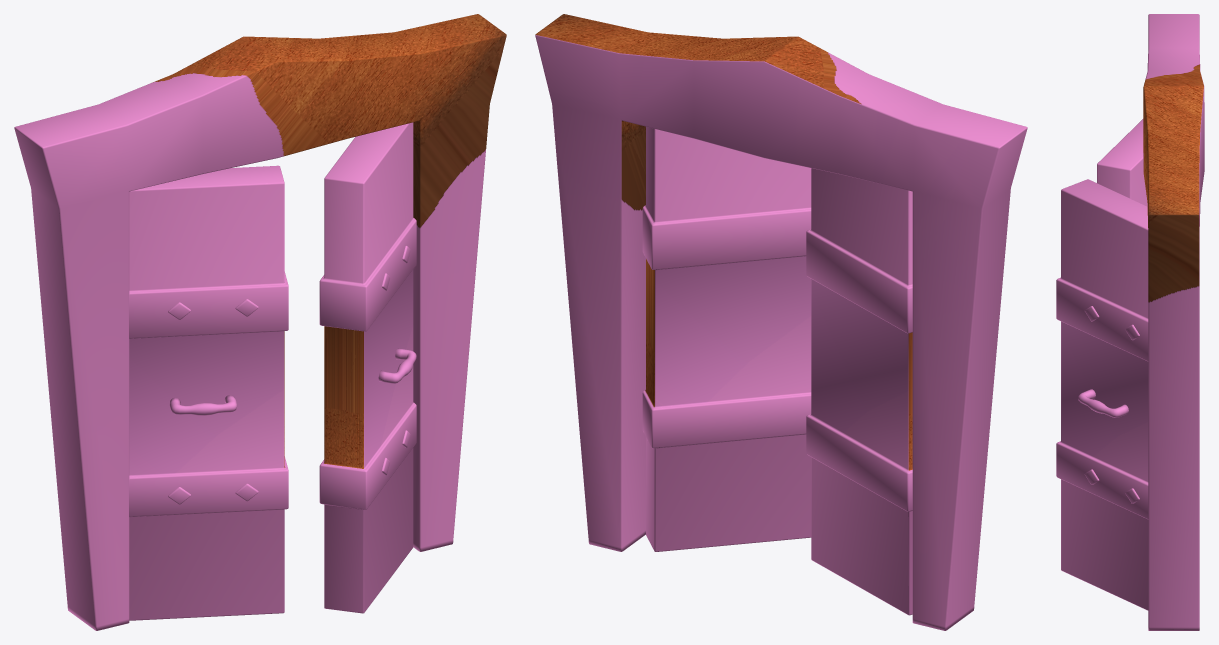
Rendered from Door.fbx.
3 renders of one model, left to right at view 1: azimuth 30°, elevation 25°; view 2: azimuth 150°, elevation 25°; view 3: azimuth 270°, elevation 25°, orthographic. The views are drawn at different scales.
Parts seen in each view (by area): view 1: Door; view 2: Door; view 3: Door.
Part boxes in pixels (left/top/right/bottom): Door: left=14, top=14, right=506, bottom=630; Door: left=535, top=14, right=1027, bottom=630; Door: left=1056, top=14, right=1204, bottom=630.
Bounding box in the file's own units: 6.27 × 6.81 × 1.96.
